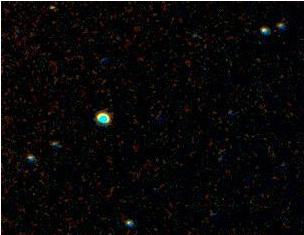star: (38, 0, 68, 23)
